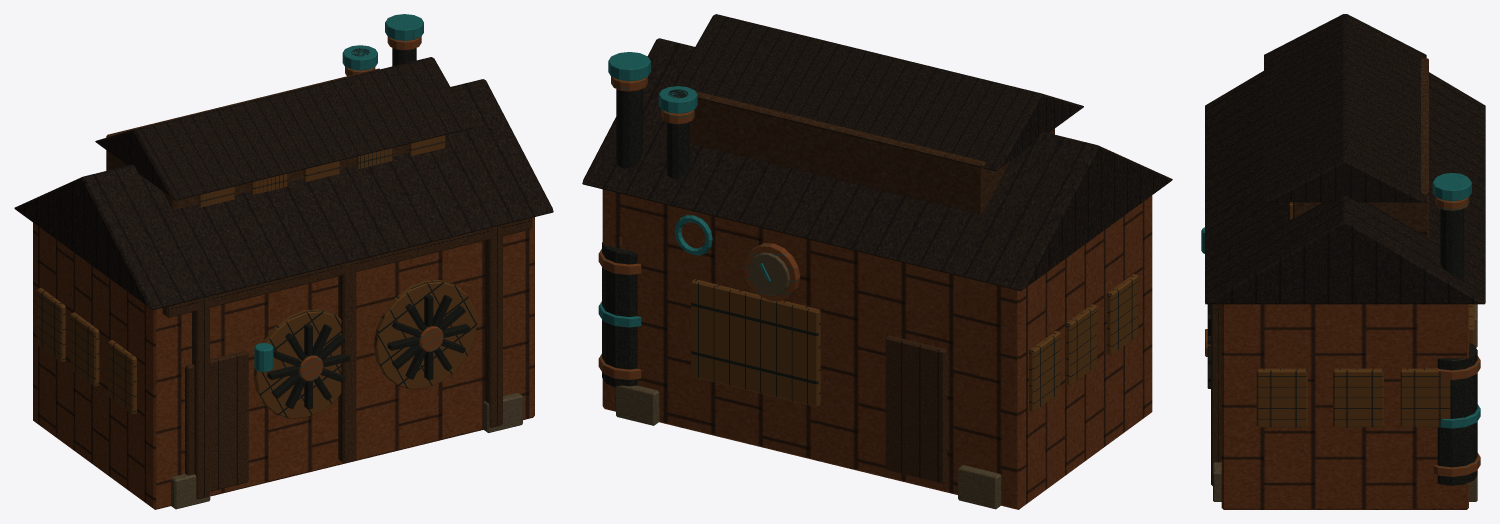
The model's file is dynamo-hall.e2.glb.
3 views of the same model, side by side, from view 1: azimuth 30°, elevation 25°; view 2: azimuth 150°, elevation 25°; view 3: azimuth 270°, elevation 25° (orthographic). The views are drawn at different scales.
Parts seen in each view (by area): view 1: DynamoHallE2; view 2: DynamoHallE2; view 3: DynamoHallE2.
Boxes of the visible parts, <box> form: DynamoHallE2: <box>14,14,553,509</box>; DynamoHallE2: <box>582,14,1172,509</box>; DynamoHallE2: <box>1201,14,1485,509</box>.
Bounding box in the file's own units: 5.38 × 4.15 × 3.24.
Materials: 1 (1 with a texture image).
